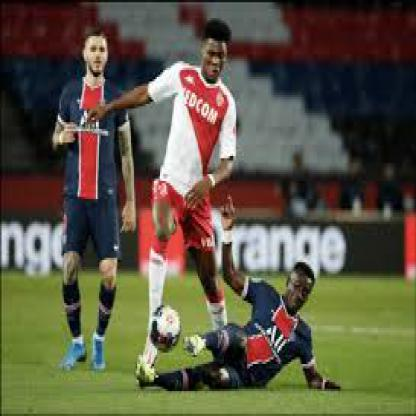Fall_Down: (134, 196, 344, 395)
